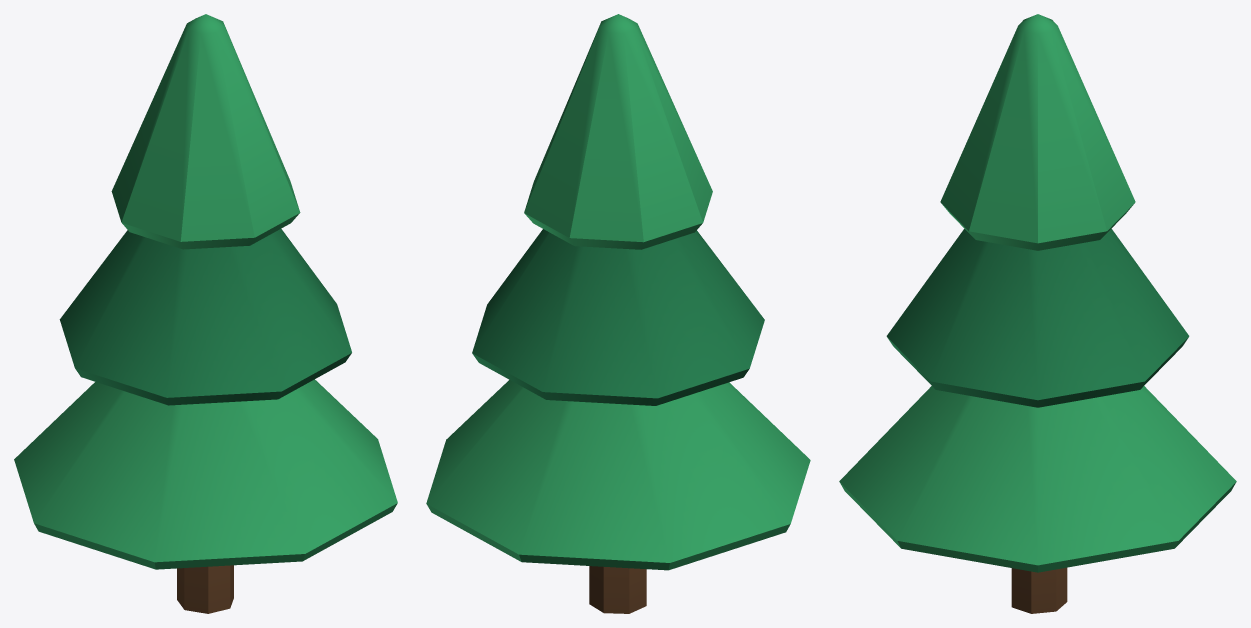
Rendered from tree_b.glb.
3 views of the same model, side by side, from view 1: azimuth 30°, elevation 25°; view 2: azimuth 150°, elevation 25°; view 3: azimuth 270°, elevation 25° (orthographic).
Parts seen in each view (by area): view 1: tree_b; view 2: tree_b; view 3: tree_b.
Boxes of the visible parts, x1=… form: tree_b: x1=14, y1=14, x2=397, y2=613; tree_b: x1=426, y1=14, x2=810, y2=613; tree_b: x1=839, y1=14, x2=1236, y2=613.
Bounding box in the file's own units: 1.62 × 2.65 × 1.62.
